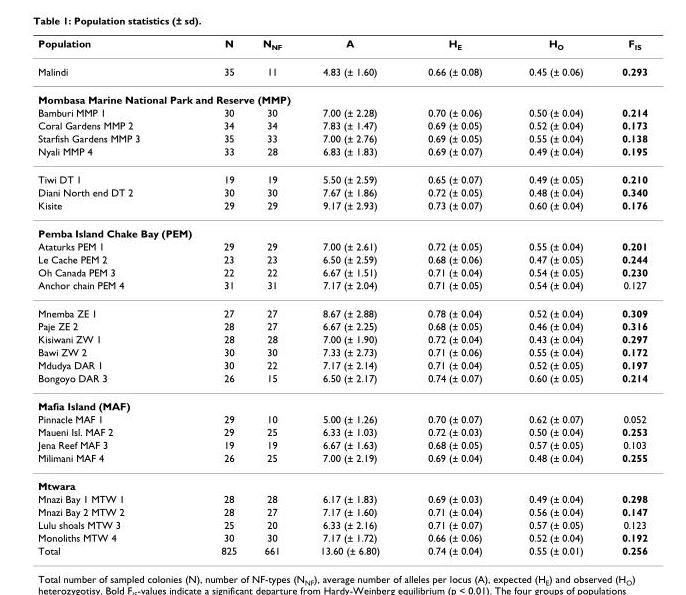table: (37, 36, 647, 556)
table column: (37, 36, 179, 556), (300, 36, 403, 556), (403, 36, 504, 556), (504, 36, 601, 556), (179, 36, 249, 556), (249, 36, 300, 556), (601, 36, 647, 556)
table column header: (37, 36, 647, 57)
table projected row header: (37, 218, 647, 239), (37, 391, 647, 412), (37, 471, 647, 492), (37, 85, 647, 105)
table row: (37, 57, 647, 85), (37, 36, 647, 57), (37, 144, 647, 165), (37, 218, 647, 239), (37, 298, 647, 319), (37, 391, 647, 412), (37, 471, 647, 492), (37, 85, 647, 105), (37, 165, 647, 185), (37, 198, 647, 218), (37, 278, 647, 298), (37, 371, 647, 391), (37, 451, 647, 471), (37, 504, 647, 518), (37, 105, 647, 118), (37, 118, 647, 131), (37, 131, 647, 144), (37, 185, 647, 198), (37, 239, 647, 252), (37, 252, 647, 265), (37, 265, 647, 278), (37, 319, 647, 332), (37, 332, 647, 345), (37, 345, 647, 358), (37, 358, 647, 371), (37, 412, 647, 425), (37, 425, 647, 438), (37, 438, 647, 451), (37, 530, 647, 543), (37, 543, 647, 556), (37, 492, 647, 504), (37, 518, 647, 530)
